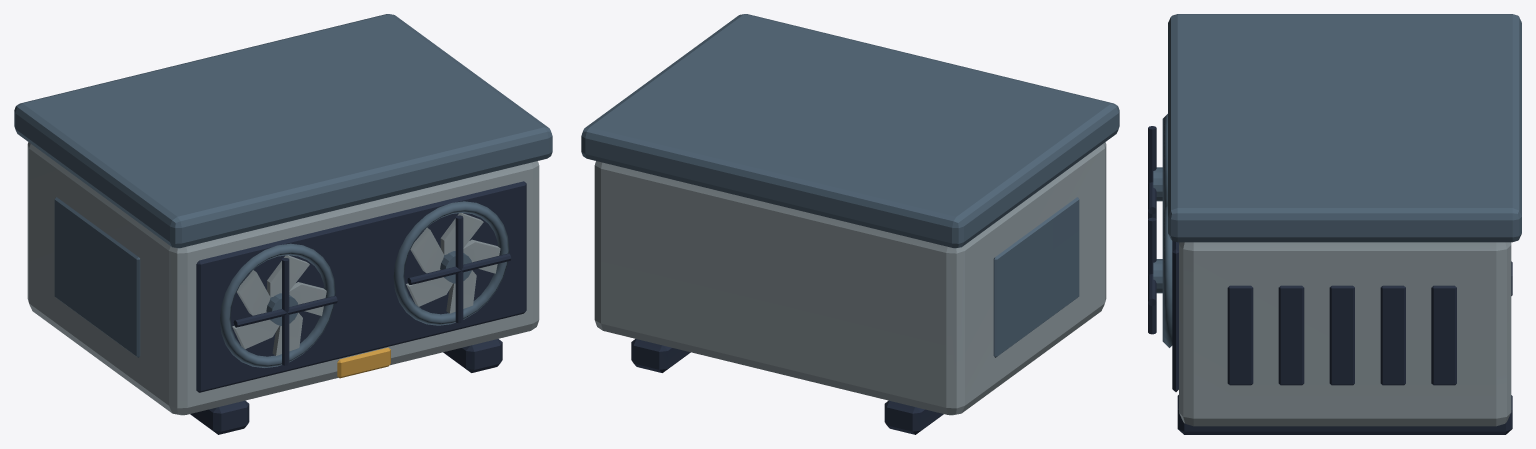
The model's file is rooftop-ac-unit.glb.
The picture shows the model from 3 angles, left to right: view 1: azimuth 30°, elevation 25°; view 2: azimuth 150°, elevation 25°; view 3: azimuth 270°, elevation 25°; orthographic projection. The views are drawn at different scales.
Parts seen in each view (by area): view 1: rooftop-ac-unit; view 2: rooftop-ac-unit; view 3: rooftop-ac-unit.
Boxes of the visible parts, left/top/right/bottom form: rooftop-ac-unit: left=14, top=14, right=552, bottom=434; rooftop-ac-unit: left=581, top=14, right=1119, bottom=434; rooftop-ac-unit: left=1148, top=14, right=1521, bottom=434.
Size of the model in its own units: 1.78 by 1.03 by 1.39.
